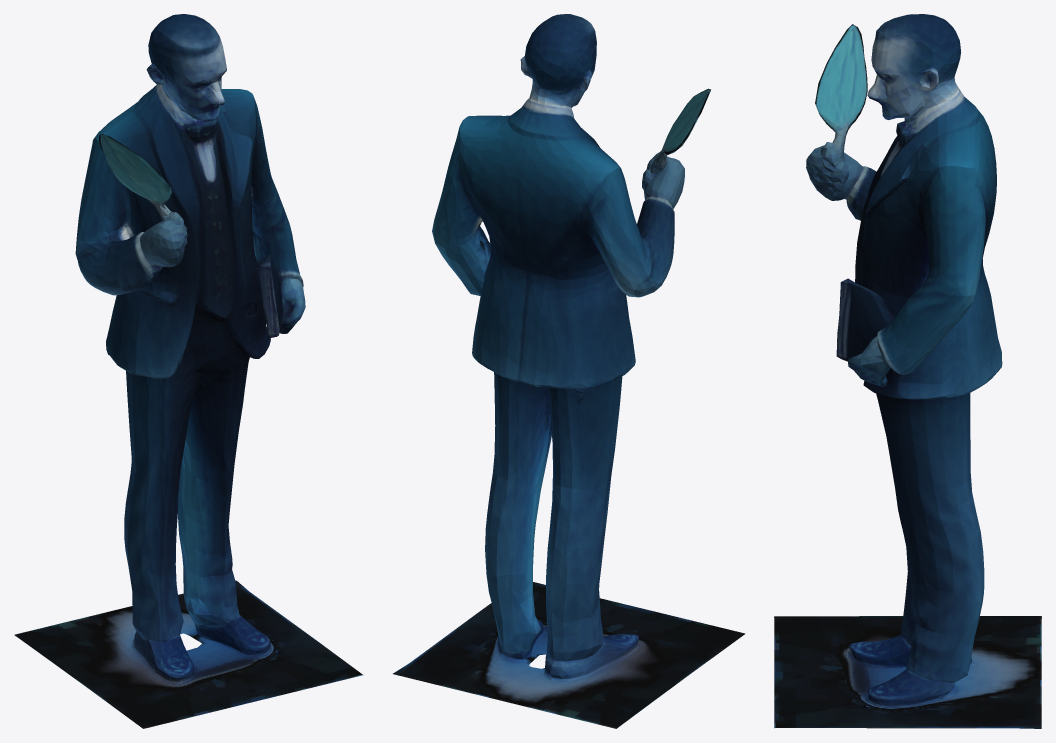
Rendered from jovan_ducic_ghost.fbx.
The picture shows the model from 3 angles, left to right: view 1: azimuth 30°, elevation 25°; view 2: azimuth 150°, elevation 25°; view 3: azimuth 270°, elevation 25°; orthographic projection. The views are drawn at different scales.
Visible parts, largest first — view 1: world; view 2: world; view 3: world.
Part boxes in pixels (left/top/right/bottom): world: left=14, top=14, right=362, bottom=728; world: left=393, top=14, right=745, bottom=728; world: left=774, top=14, right=1041, bottom=728.
Bounding box in the file's own units: 37.35 × 99.93 × 36.92.
1 material, 1 textured.
